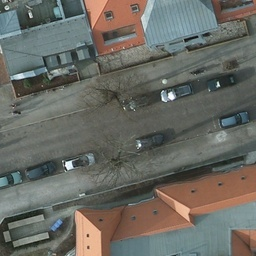car: (122, 91, 149, 115), (25, 161, 55, 180), (161, 83, 191, 101), (63, 153, 94, 170), (206, 74, 236, 91), (219, 111, 249, 127), (136, 132, 165, 146)
